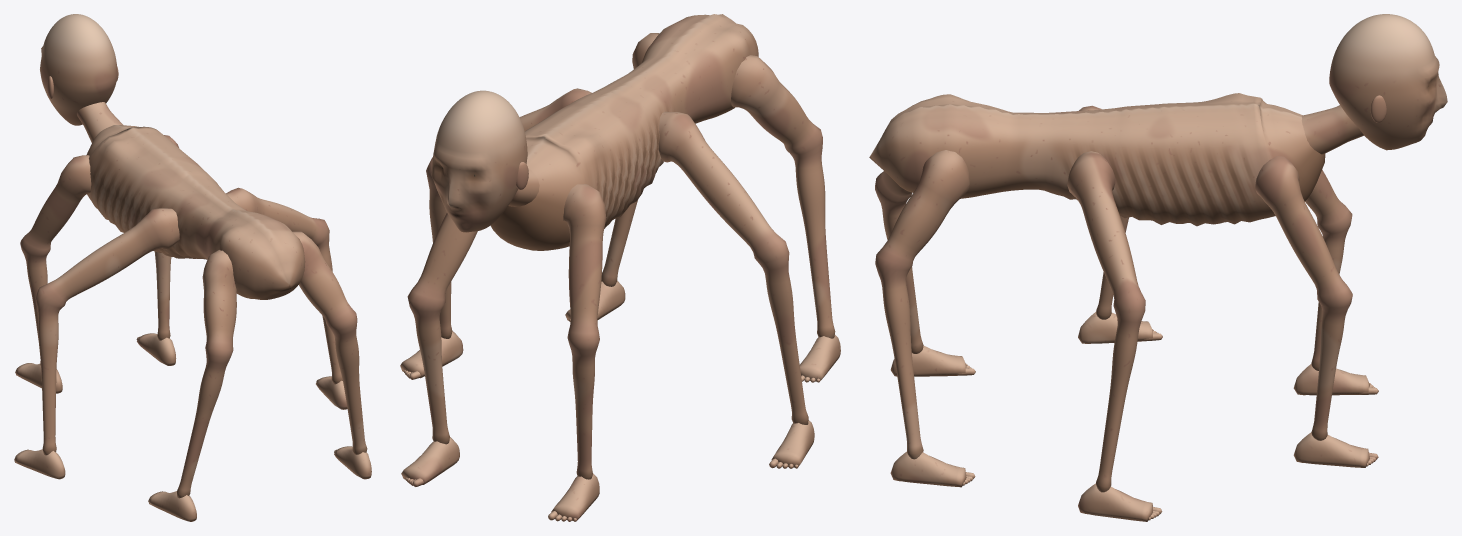
3 views of the same model, side by side, from view 1: azimuth 30°, elevation 25°; view 2: azimuth 150°, elevation 25°; view 3: azimuth 270°, elevation 25° (orthographic). The views are drawn at different scales.
Bounding box in the file's own units: 1.57 × 1.55 × 1.98.
Materials: 1 (1 with a texture image).
